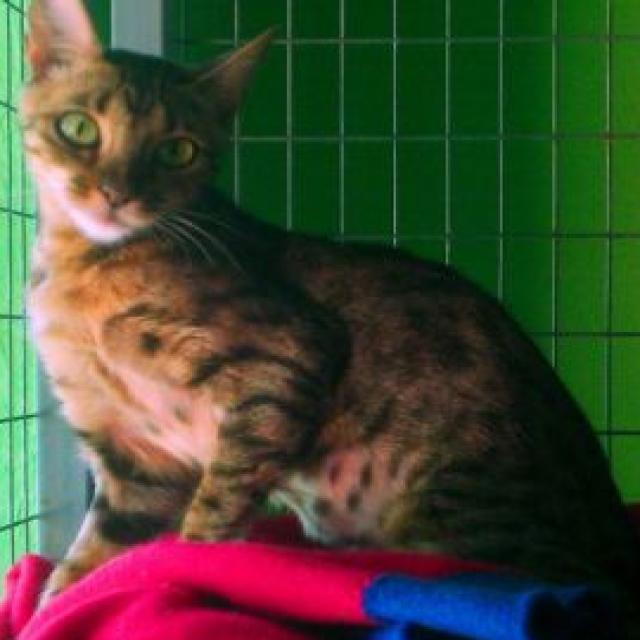Bengal: (12, 0, 640, 636)
